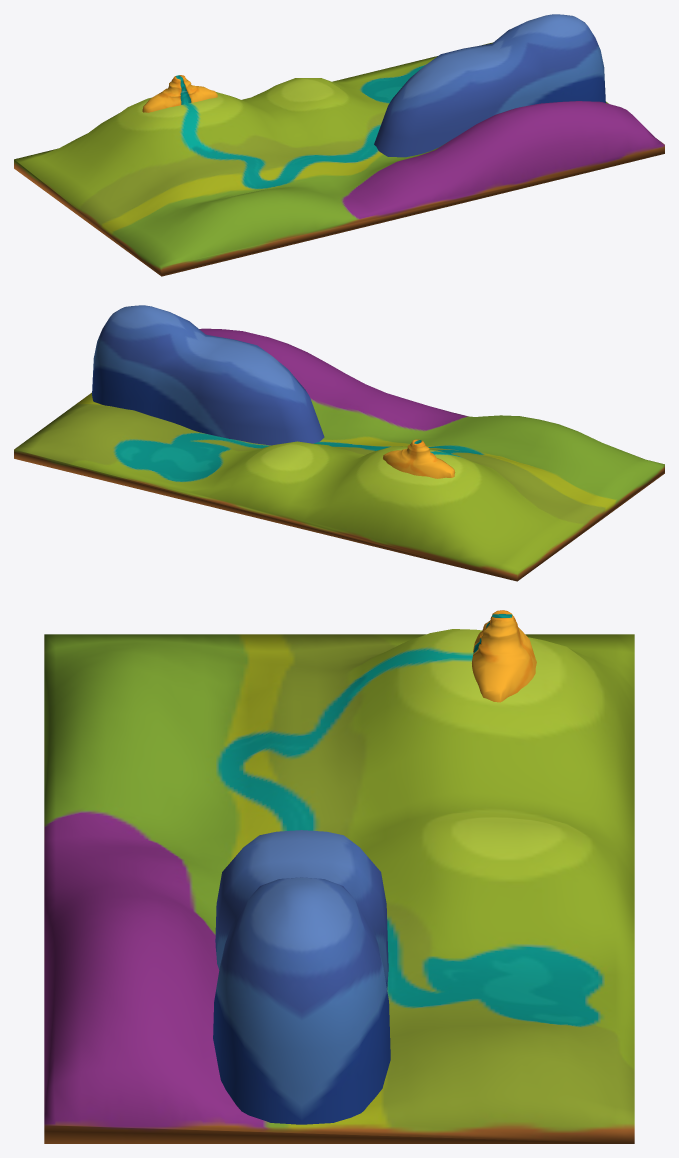
File: MDL_Pag 5 - 6.2.fbx
3 views of the same model, one above another, from view 1: azimuth 30°, elevation 25°; view 2: azimuth 150°, elevation 25°; view 3: azimuth 270°, elevation 25° (orthographic). The views are drawn at different scales.
Parts seen in each view (by area): view 1: MDL_Piso_base_doble pag, MDL_Piso_base_doble pag.001; view 2: MDL_Piso_base_doble pag, MDL_Piso_base_doble pag.001; view 3: MDL_Piso_base_doble pag, MDL_Piso_base_doble pag.001.
Part boxes in pixels (<box>): MDL_Piso_base_doble pag: <box>14,14,664,276</box>; MDL_Piso_base_doble pag.001: <box>142,75,217,112</box>; MDL_Piso_base_doble pag: <box>14,305,664,581</box>; MDL_Piso_base_doble pag.001: <box>383,439,455,478</box>; MDL_Piso_base_doble pag: <box>44,629,634,1143</box>; MDL_Piso_base_doble pag.001: <box>472,610,536,702</box>.
Size of the model in its own units: 6566 by 1268 by 3336.
